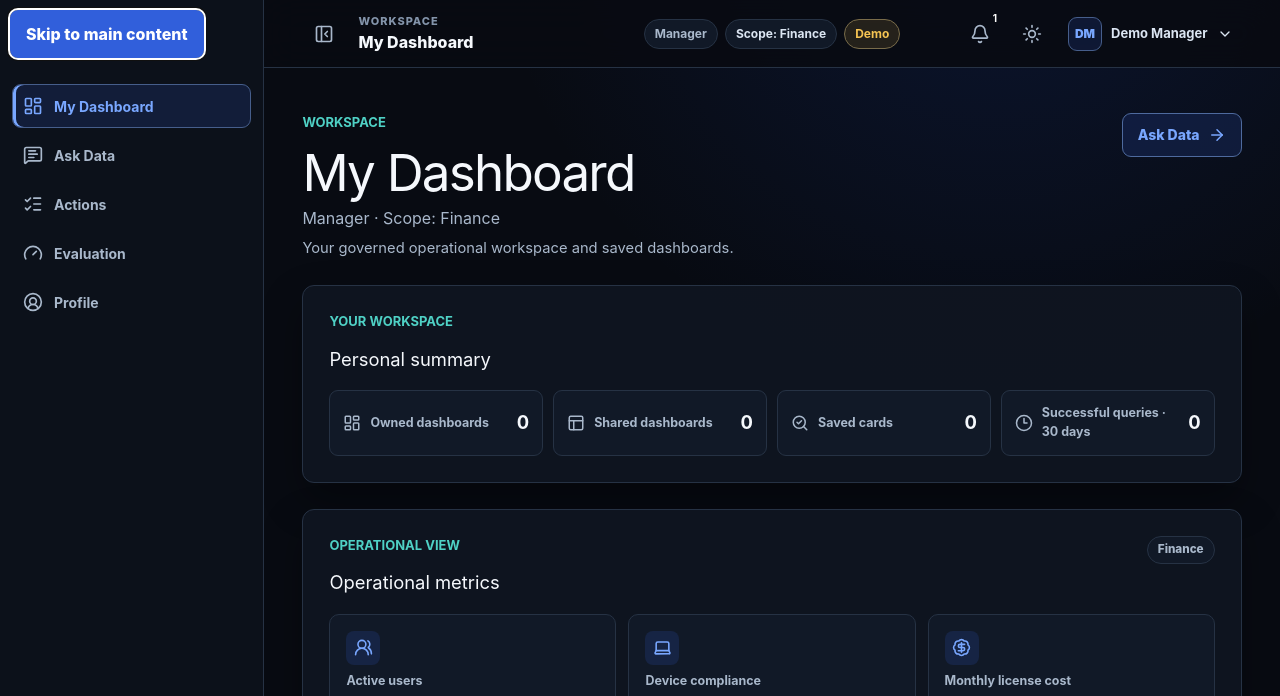
Test case: NotificationCenter › recovers safely when a mark-all mutation fails and uses fail-closed links
This screenshot has width=1280, height=696.
What coordinates should you click on to do the following:
click the button named "Open notifications, 1 unread"
I would click on:
 (980, 34)
Its box is [958, 12, 1002, 56].
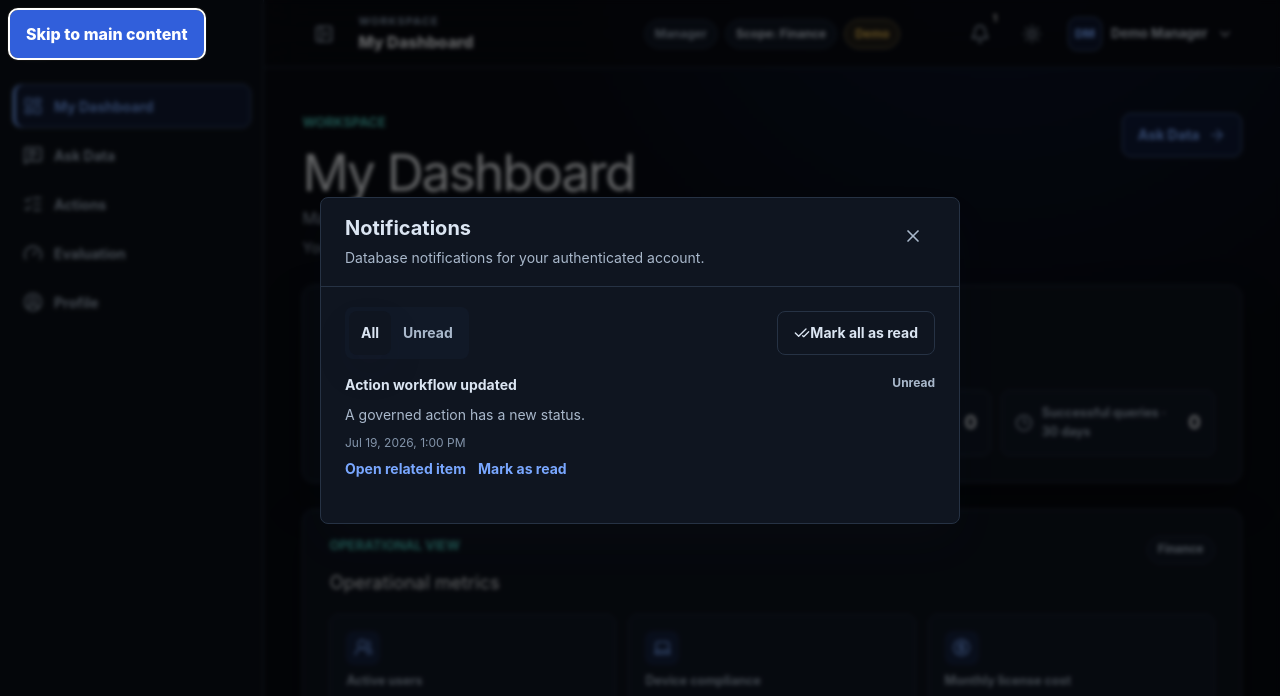
What coordinates should you click on to do the following:
click the button "Mark all as read"
I would click on:
 (856, 332)
Its box is [777, 310, 935, 354].
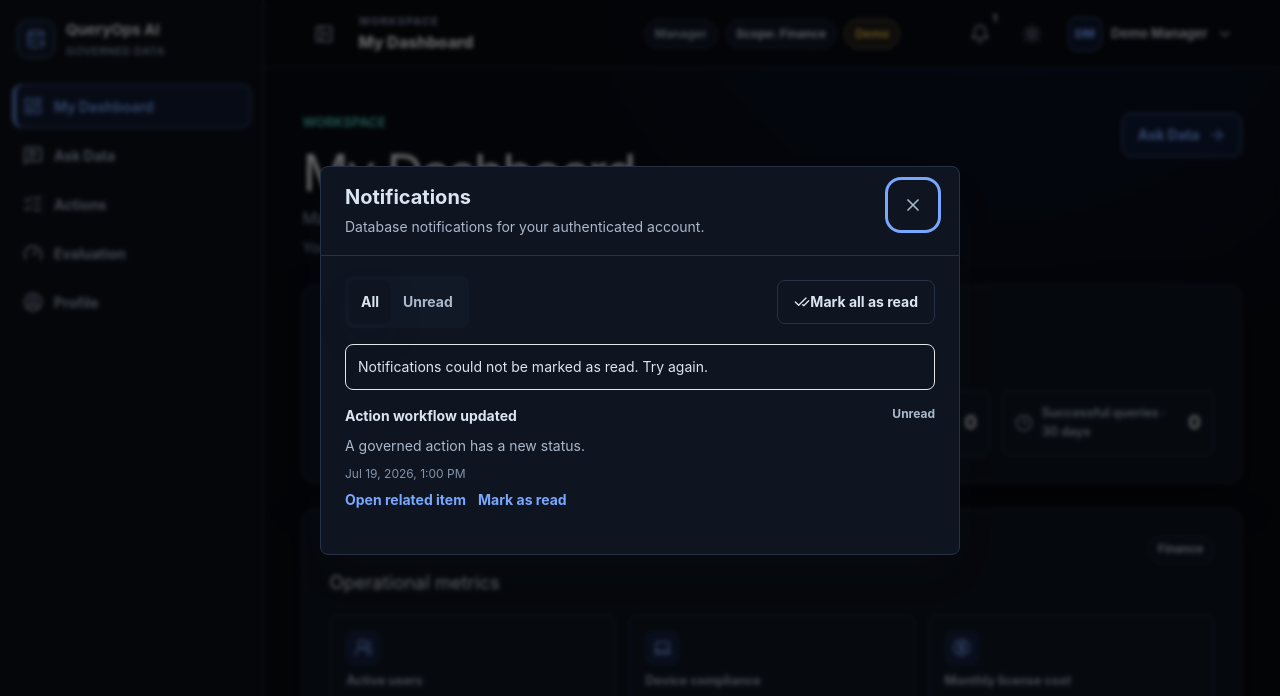
Check: the number of tabs "Unread" is 2, box [391, 280, 465, 324]; [892, 406, 935, 422]
Check: the message shows "could not be marked as read", box [358, 358, 708, 374]
